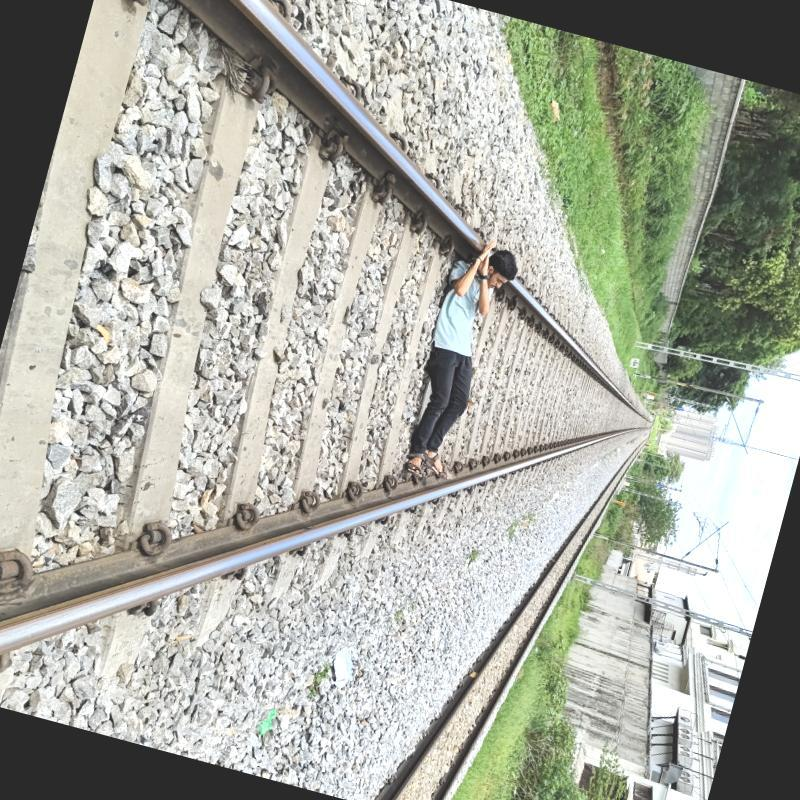sleeping: (381, 224, 528, 504)
